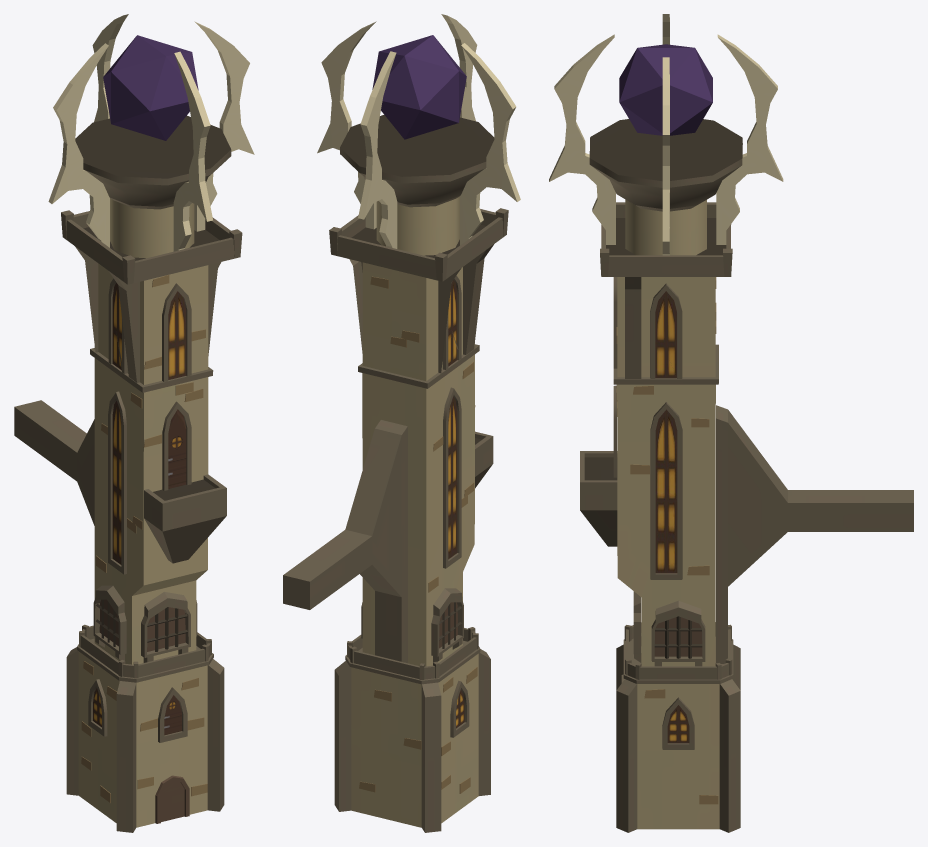
File: tower.glb
3 views of the same model, side by side, from view 1: azimuth 30°, elevation 25°; view 2: azimuth 150°, elevation 25°; view 3: azimuth 270°, elevation 25° (orthographic).
Parts seen in each view (by area): view 1: tower; view 2: tower; view 3: tower.
Boxes of the visible parts, <box> form: tower: <box>14,14,254,832</box>; tower: <box>283,14,520,832</box>; tower: <box>549,14,913,832</box>.
Size of the model in its own units: 10.9 by 39.61 by 16.98.
1 material, 1 textured.
